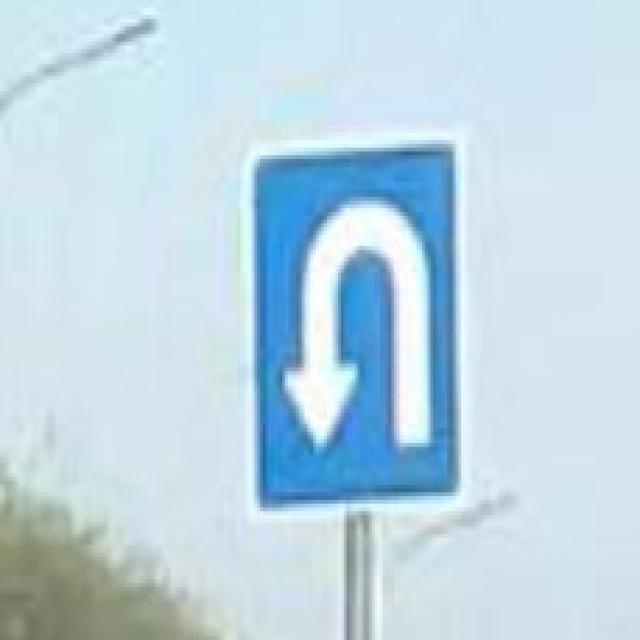U-turn: (251, 146, 460, 511)
